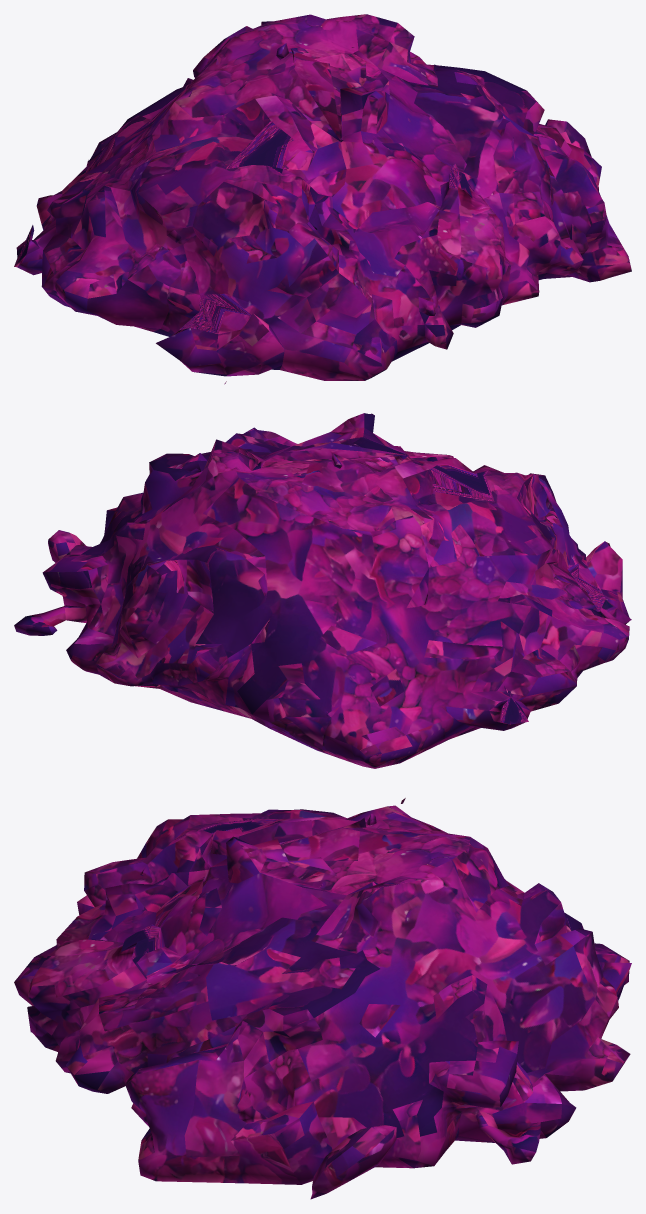
The model's file is milho_moido.fbx.
The picture shows the model from 3 angles, top to bottom: view 1: azimuth 30°, elevation 25°; view 2: azimuth 150°, elevation 25°; view 3: azimuth 270°, elevation 25°; orthographic projection. The views are drawn at different scales.
Parts seen in each view (by area): view 1: milho_moido; view 2: milho_moido; view 3: milho_moido.
Part boxes in pixels (x1,y1,x2,y2): milho_moido: (14, 14, 631, 384); milho_moido: (14, 413, 631, 768); milho_moido: (14, 798, 631, 1199).
Size of the model in its own units: 96.13 by 37.95 by 83.57.
